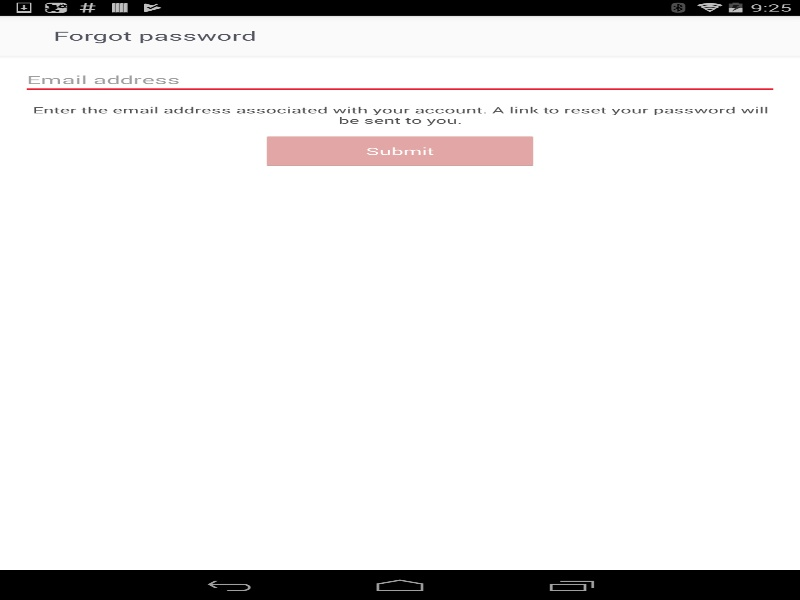Input: (21, 65, 778, 94)
